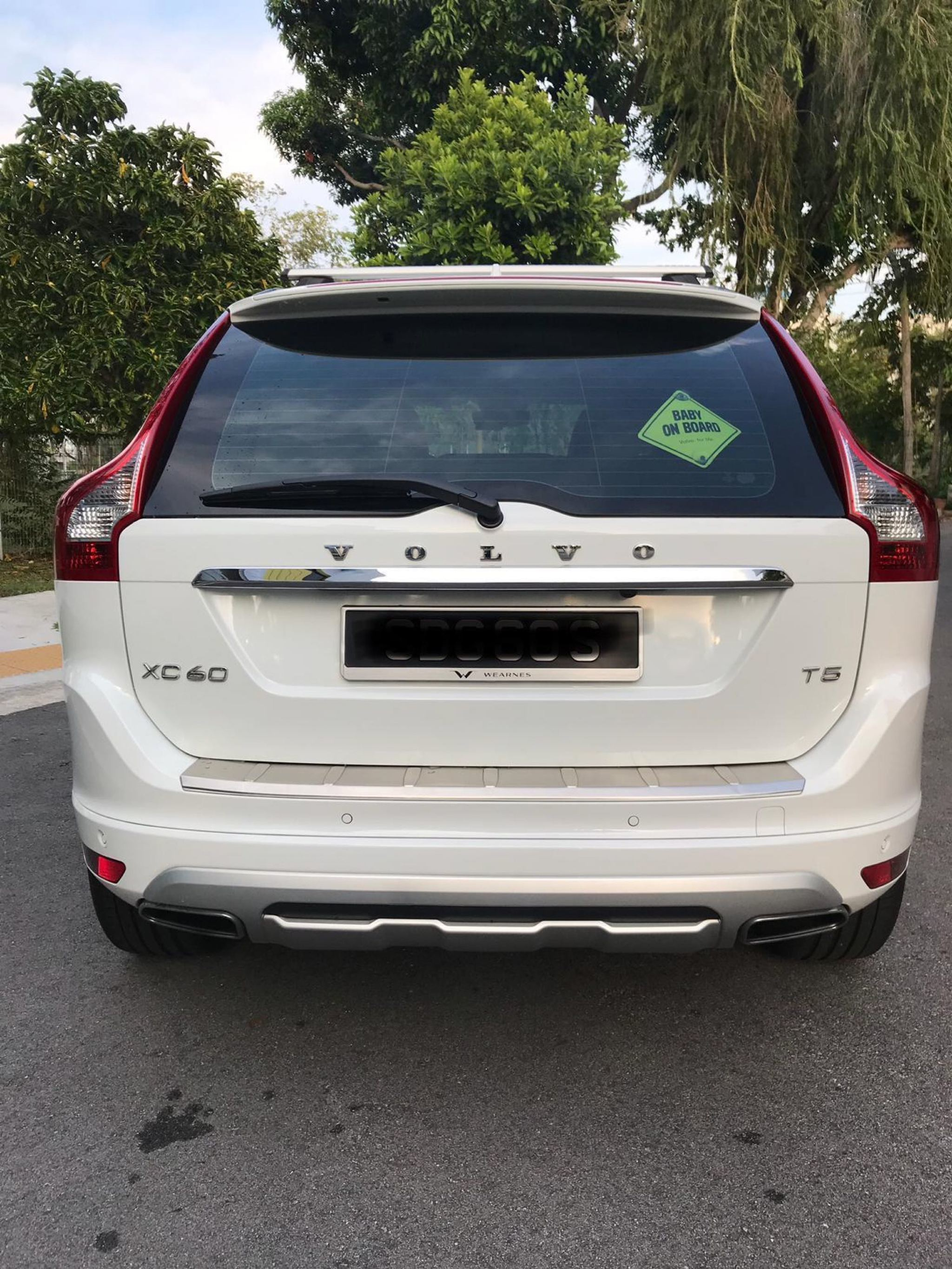other: (40, 237, 924, 980)
